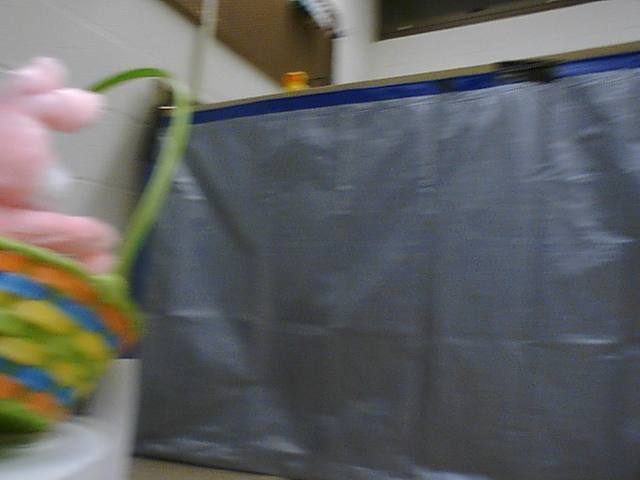bunny: (1, 54, 198, 440)
